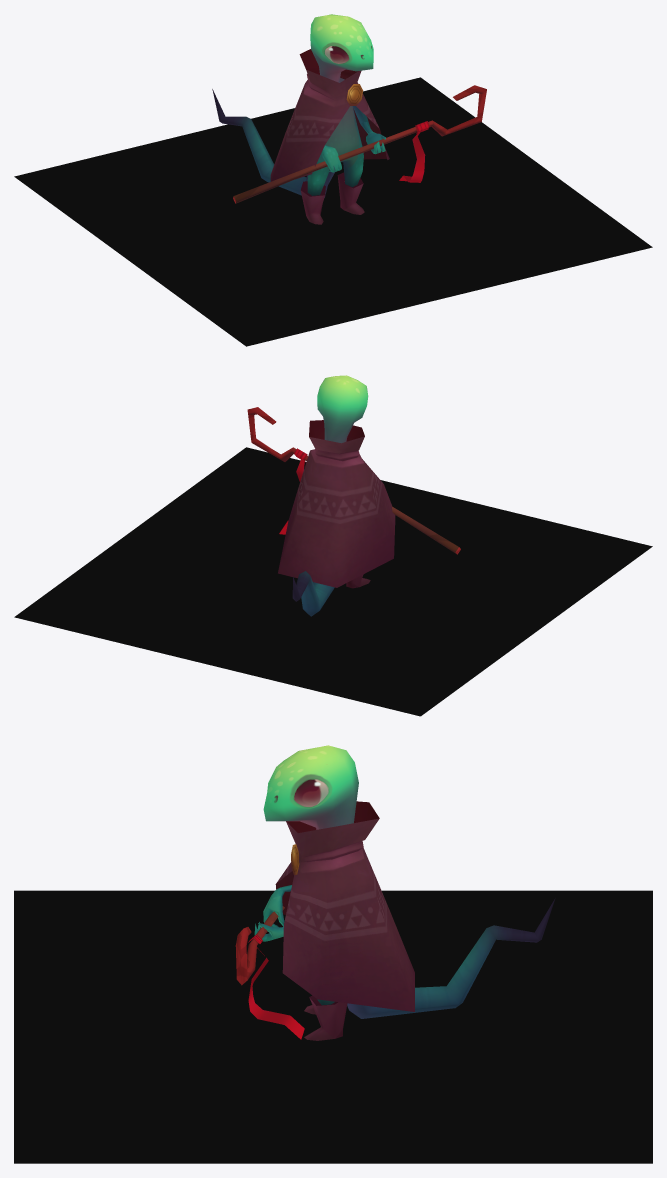
Rendered from mage.glb.
The picture shows the model from 3 angles, top to bottom: view 1: azimuth 30°, elevation 25°; view 2: azimuth 150°, elevation 25°; view 3: azimuth 270°, elevation 25°; orthographic projection. The views are drawn at different scales.
Visible parts, largest first — view 1: Object_3, Object_4; view 2: Object_3, Object_4; view 3: Object_3, Object_4.
Boxes of the visible parts, x1,y1,x2,y2 form: Object_3: [14, 77, 652, 346]; Object_4: [212, 14, 486, 224]; Object_3: [14, 447, 652, 716]; Object_4: [247, 375, 460, 616]; Object_3: [14, 890, 652, 1163]; Object_4: [235, 745, 555, 1040].
Size of the model in its own units: 3.21 by 1.51 by 3.18.
2 materials, 2 textured.
